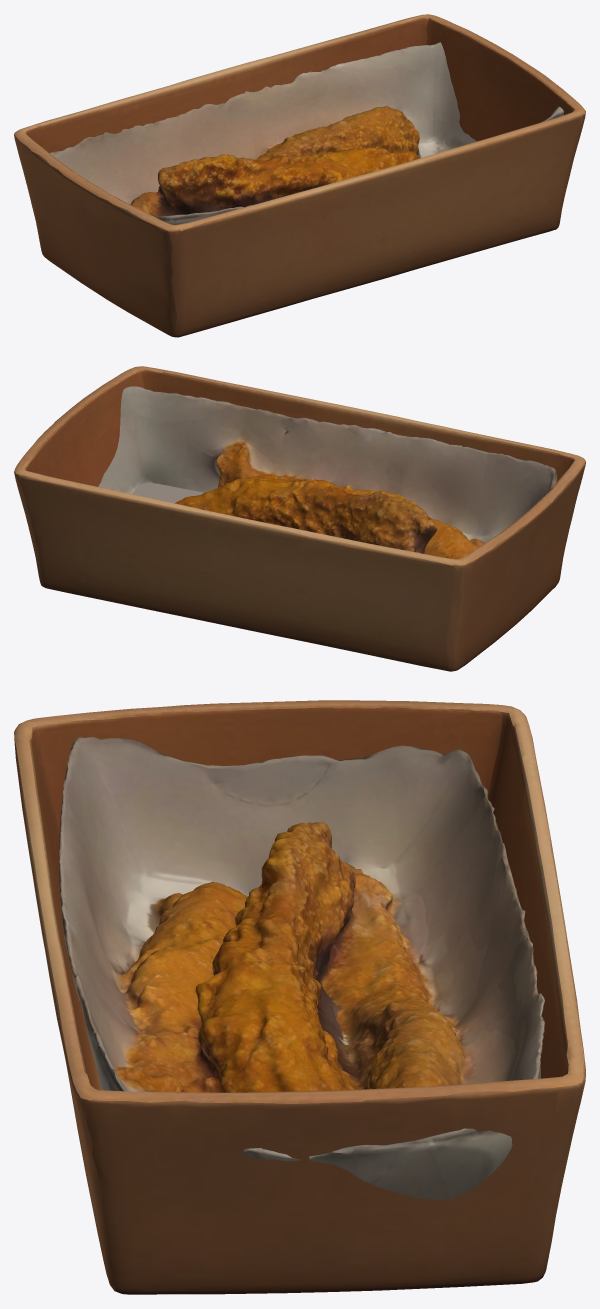
The model's file is Tenders.01.glb.
3 views of the same model, one above another, from view 1: azimuth 30°, elevation 25°; view 2: azimuth 150°, elevation 25°; view 3: azimuth 270°, elevation 25° (orthographic). The views are drawn at different scales.
Parts seen in each view (by area): view 1: /Root/Scenes/Scene/Object_37/Object_39/Object_40/Submesh_0, /Root/Scenes/Scene/Object_37/Object_38/Submesh_0; view 2: /Root/Scenes/Scene/Object_37/Object_39/Object_40/Submesh_0, /Root/Scenes/Scene/Object_37/Object_38/Submesh_0, /Root/Scenes/Scene/Object_37/Object_41/Submesh_0; view 3: /Root/Scenes/Scene/Object_37/Object_38/Submesh_0, /Root/Scenes/Scene/Object_37/Object_39/Object_40/Submesh_0.
Boxes of the visible parts, box(x1,y1,x2,y2) form: /Root/Scenes/Scene/Object_37/Object_39/Object_40/Submesh_0: box(14, 14, 585, 337); /Root/Scenes/Scene/Object_37/Object_38/Submesh_0: box(49, 42, 563, 224); /Root/Scenes/Scene/Object_37/Object_39/Object_40/Submesh_0: box(14, 366, 585, 671); /Root/Scenes/Scene/Object_37/Object_38/Submesh_0: box(98, 386, 557, 559); /Root/Scenes/Scene/Object_37/Object_41/Submesh_0: box(132, 483, 203, 503); /Root/Scenes/Scene/Object_37/Object_38/Submesh_0: box(59, 736, 544, 1200); /Root/Scenes/Scene/Object_37/Object_39/Object_40/Submesh_0: box(14, 700, 585, 1294).
Bounding box in the file's own units: 0.227 × 0.0603 × 0.1363.
Materials: 3 (2 with a texture image).
